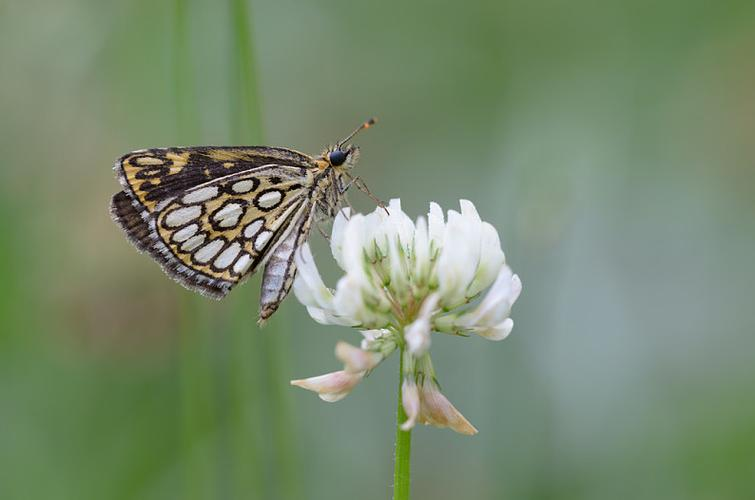Hesperiidae: (108, 113, 391, 325)
